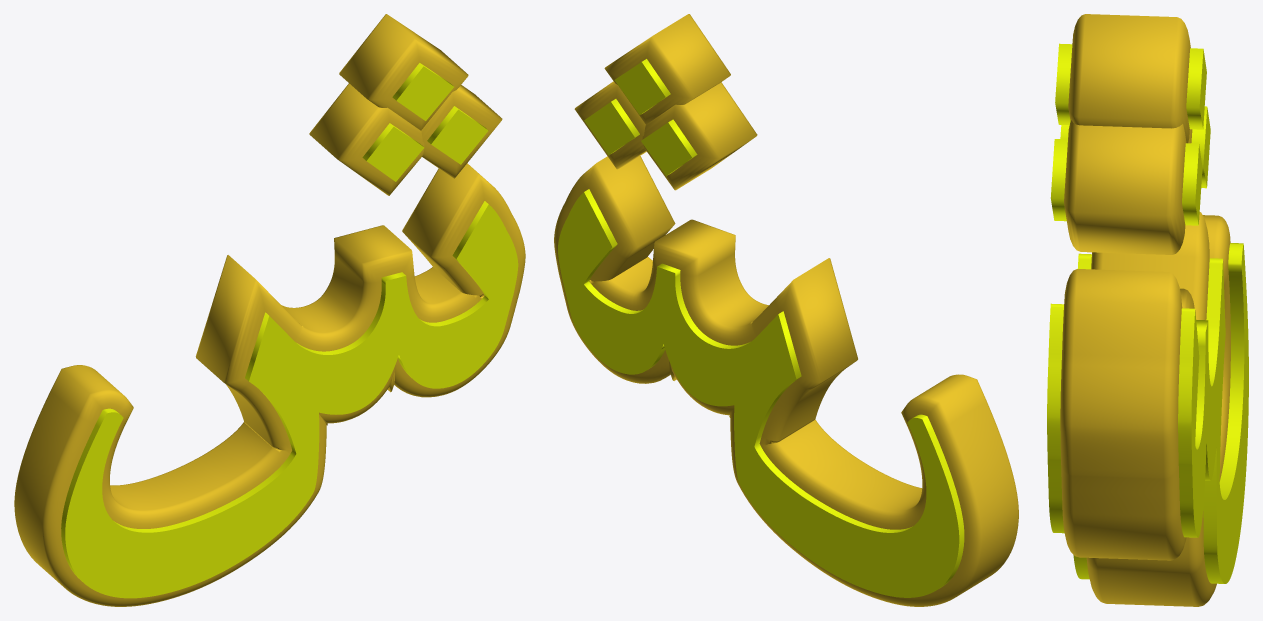
3 views of the same model, side by side, from view 1: azimuth 30°, elevation 25°; view 2: azimuth 150°, elevation 25°; view 3: azimuth 270°, elevation 25° (orthographic). The views are drawn at different scales.
Visible parts, largest first — view 1: text 2, Text; view 2: text 2, Text; view 3: text 2, Text.
Part boxes in pixels (bbox=[...]): text 2: bbox=[14, 14, 525, 606]; Text: bbox=[61, 63, 518, 598]; text 2: bbox=[554, 14, 1018, 606]; Text: bbox=[558, 59, 964, 597]; text 2: bbox=[1060, 14, 1230, 606]; Text: bbox=[1047, 43, 1248, 583].
Bounding box in the file's own units: 64.67 × 67.9 × 16.95.
